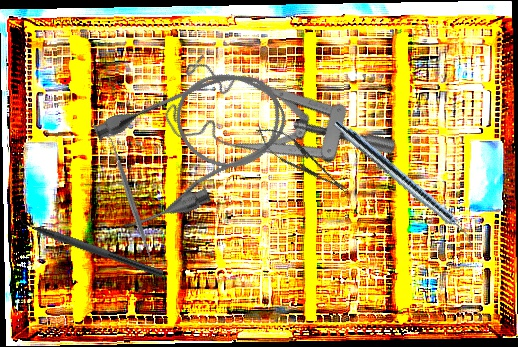Cannula: (80, 50, 306, 239)
Chopper: (10, 208, 168, 278)
Handpiece: (329, 117, 481, 249)
Needle Holder: (249, 118, 356, 203)
Spatula Surgical: (102, 132, 160, 269)
Speculum: (149, 15, 401, 245)
